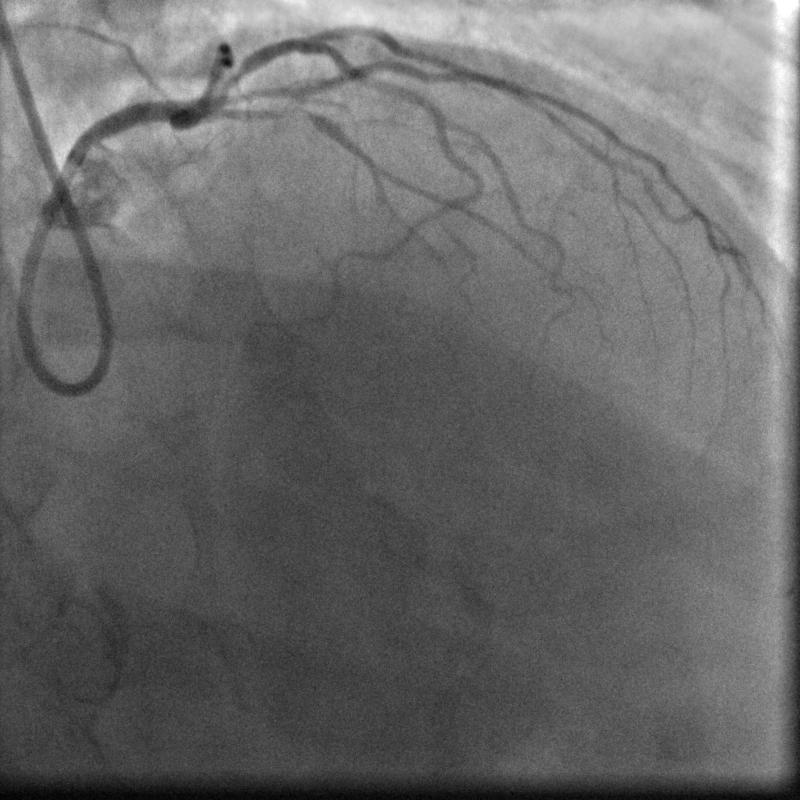Stenosis: (212, 72, 248, 98)
